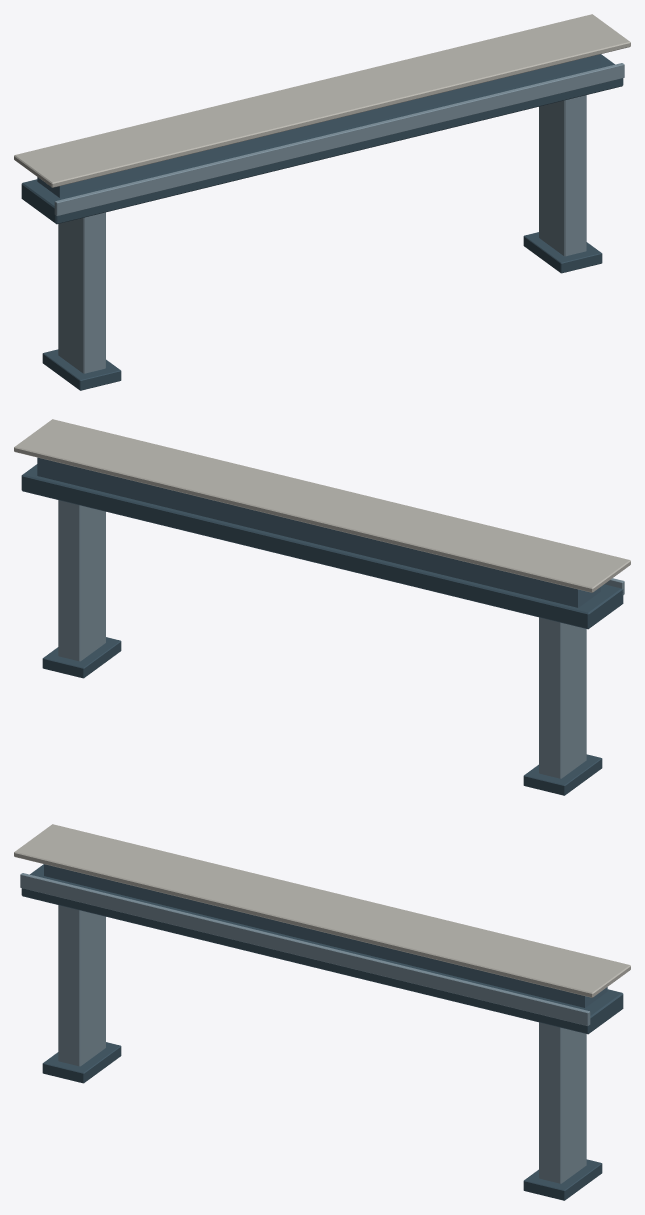
The model's file is CityV7_SideGallery.fbx.
The picture shows the model from 3 angles, top to bottom: view 1: azimuth 30°, elevation 25°; view 2: azimuth 150°, elevation 25°; view 3: azimuth 330°, elevation 25°; orthographic projection.
Visible parts, largest first — view 1: CityV7_SideGallery__CityV7_Mineral, CityV7_SideGallery__CityV7_BlueStone, CityV7_SideGallery__CityV7_Structure, CityV7_SideGallery__CityV7_Glass; view 2: CityV7_SideGallery__CityV7_Mineral, CityV7_SideGallery__CityV7_Structure, CityV7_SideGallery__CityV7_BlueStone, CityV7_SideGallery__CityV7_Glass; view 3: CityV7_SideGallery__CityV7_Mineral, CityV7_SideGallery__CityV7_BlueStone, CityV7_SideGallery__CityV7_Structure, CityV7_SideGallery__CityV7_Glass.
Boxes of the visible parts, <box> form: CityV7_SideGallery__CityV7_Mineral: <box>14,14,630,187</box>; CityV7_SideGallery__CityV7_BlueStone: <box>54,63,624,373</box>; CityV7_SideGallery__CityV7_Structure: <box>21,54,623,390</box>; CityV7_SideGallery__CityV7_Glass: <box>37,54,600,197</box>; CityV7_SideGallery__CityV7_Mineral: <box>14,419,630,592</box>; CityV7_SideGallery__CityV7_Structure: <box>21,464,623,795</box>; CityV7_SideGallery__CityV7_BlueStone: <box>58,500,624,778</box>; CityV7_SideGallery__CityV7_Glass: <box>37,457,600,607</box>; CityV7_SideGallery__CityV7_Mineral: <box>14,824,630,997</box>; CityV7_SideGallery__CityV7_BlueStone: <box>20,873,590,1183</box>; CityV7_SideGallery__CityV7_Structure: <box>21,864,623,1200</box>; CityV7_SideGallery__CityV7_Glass: <box>44,864,607,1007</box>.
Size of the model in its own units: 39.78 by 14.13 by 4.6.
